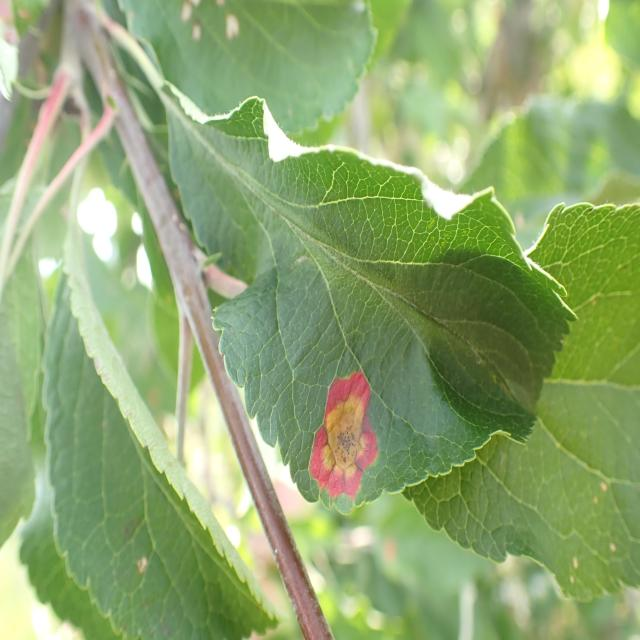rust: (158, 78, 578, 517)
